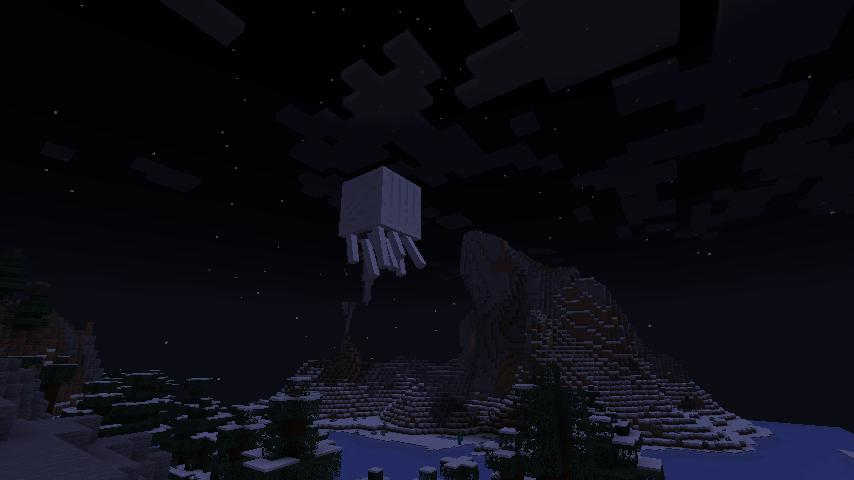ghast: (338, 166, 429, 278)
